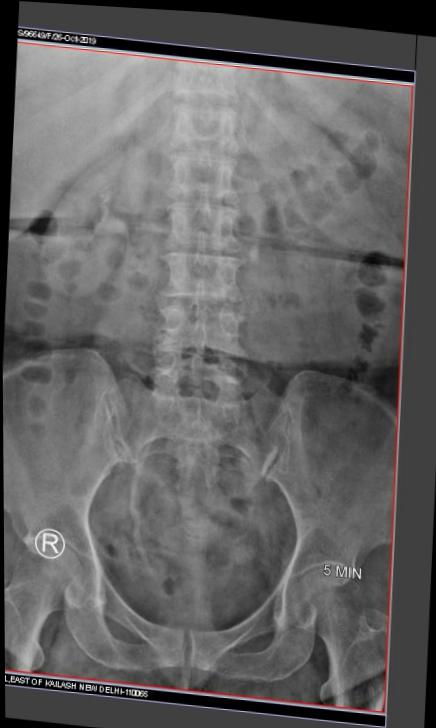vertebrae: (184, 120, 261, 181)
